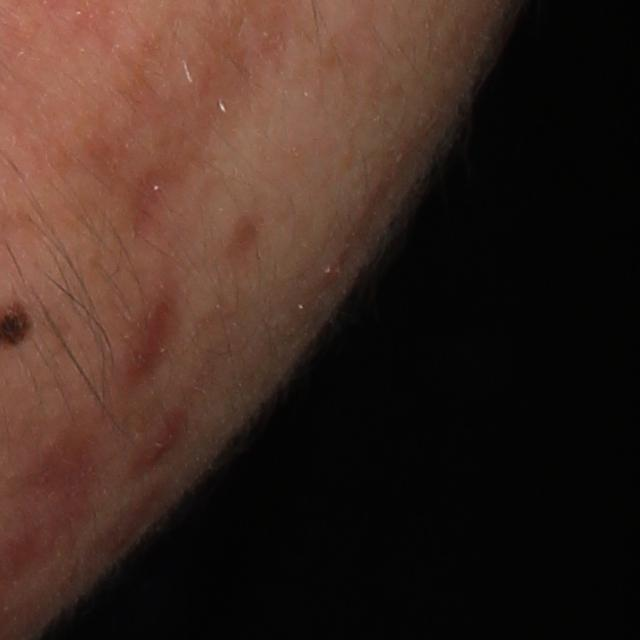papule: (146, 419, 184, 464)
